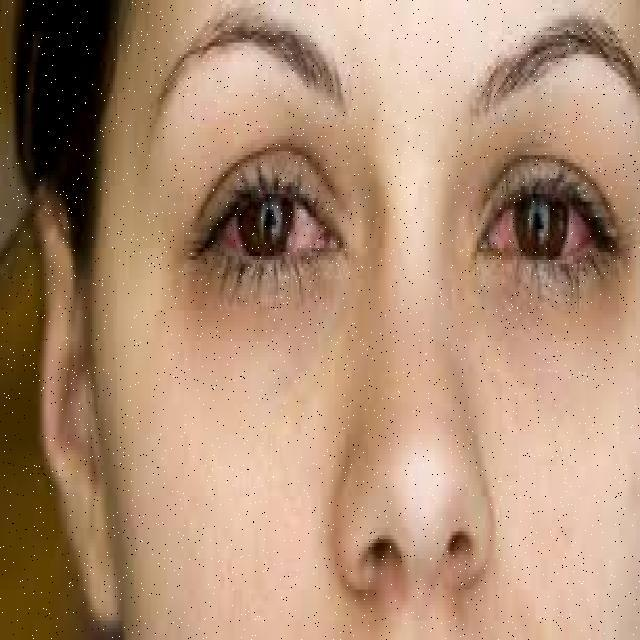Conjunctivitis: (474, 191, 612, 263), (206, 201, 344, 265)
